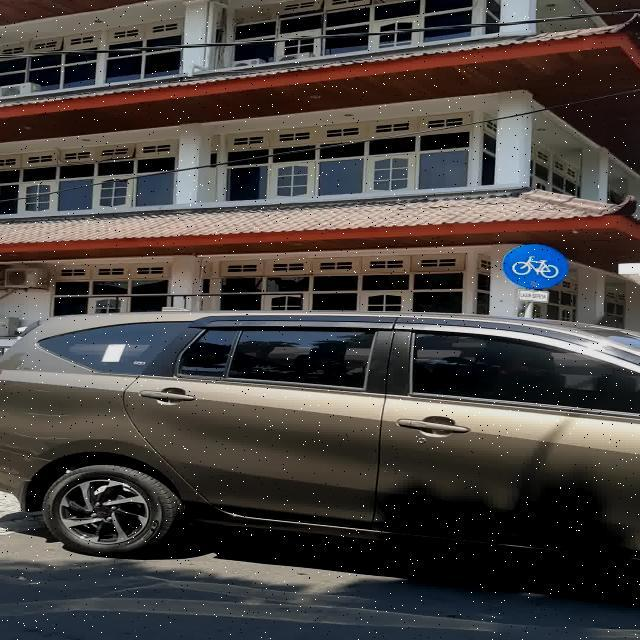Jalur Sepeda: (502, 244, 570, 290)
